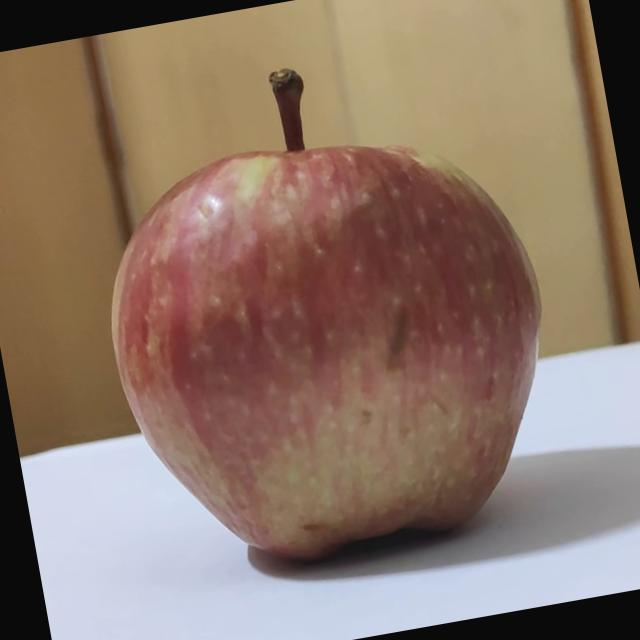apple: (66, 22, 588, 590)
